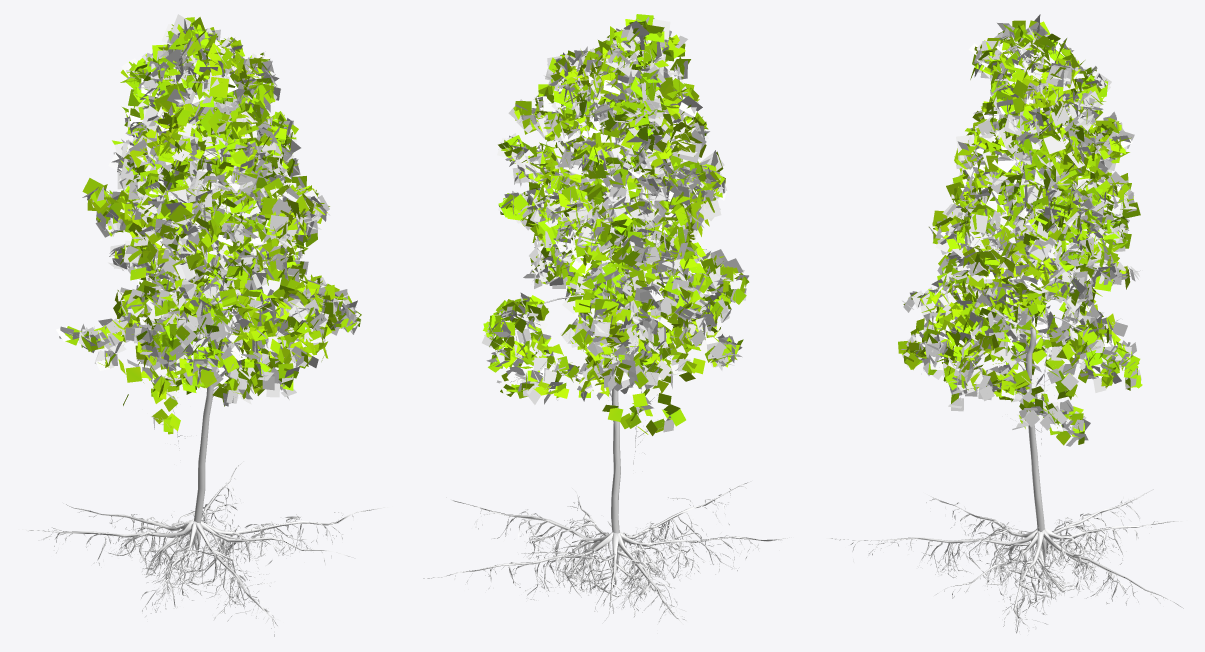
Rendered from strom_web_fast.glb.
3 renders of one model, left to right at view 1: azimuth 30°, elevation 25°; view 2: azimuth 150°, elevation 25°; view 3: azimuth 270°, elevation 25°, orthographic. The views are drawn at different scales.
Parts seen in each view (by area): view 1: Tree_Model.001, Tree_Model.002, Tree_Roots, Tree_Model; view 2: Tree_Model.002, Tree_Model.001, Tree_Roots, Tree_Model; view 3: Tree_Model.002, Tree_Model.001, Tree_Roots, Tree_Model.
Part boxes in pixels (left/top/right/bottom): Tree_Model.001: left=64, top=17, right=361, bottom=434; Tree_Model.002: left=56, top=14, right=361, bottom=429; Tree_Roots: left=18, top=461, right=392, bottom=636; Tree_Model: left=70, top=80, right=334, bottom=533; Tree_Model.002: left=482, top=16, right=748, bottom=432; Tree_Model.001: left=483, top=14, right=749, bottom=435; Tree_Roots: left=423, top=481, right=793, bottom=633; Tree_Model: left=495, top=72, right=727, bottom=533; Tree_Model.002: left=901, top=14, right=1141, bottom=446; Tree_Model.001: left=898, top=20, right=1142, bottom=445; Tree_Roots: left=826, top=489, right=1187, bottom=633; Tree_Model: left=908, top=156, right=1131, bottom=531.
Bounding box in the file's own units: 15.41 × 26.11 × 15.71.
